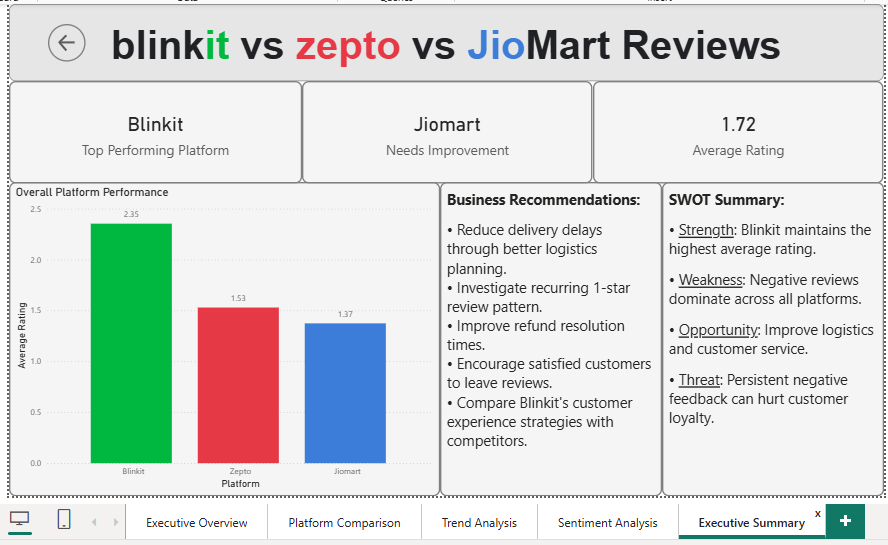

The page's visual inventory and layout, read from the dashboard file:
{"tool":"powerbi","page":{"name":"Executive Summary","canvas":[1280,720],"ordinal":4},"visuals":[{"type":"textbox","box":[0,0,1280,112.7],"z":0},{"type":"card","title":"Top Performing Platform","fields":{"Values":["Table of Measures.Top Performing Platform"]},"box":[0,112.6,429.1,150],"z":1000},{"type":"card","title":"Top Performing Platform","fields":{"Values":["Table of Measures.Needs Improvement"]},"box":[429.1,112.6,425.5,150.2],"z":2000},{"type":"card","title":"Top Performing Platform","fields":{"Values":["Table of Measures.Average Rating"]},"box":[854.5,112.6,425.5,150.2],"z":3000},{"type":"clusteredColumnChart","title":"Overall Platform Performance","fields":{"Category":["Platform.Platform"],"Y":["Table of Measures.Average Rating"]},"box":[0,260.5,630.7,459.5],"z":4000},{"type":"textbox","box":[630.7,260.5,324.9,459.5],"z":5000},{"type":"textbox","box":[955.6,260.5,324.9,459.5],"z":6000},{"type":"actionButton","box":[57.2,28.6,55.4,55.4],"z":7000}]}

Visuals, with their boxes on the page's 1280x720 design canvas (x1, y1, x2, y2). These are canvas units, not pixel positions in the 888x545 screenshot, which may show the page scaled, cropped or inside an application window:
textbox: {"x1": 0, "y1": 0, "x2": 1280, "y2": 113}
"Top Performing Platform" card: {"x1": 0, "y1": 113, "x2": 429, "y2": 263}
"Top Performing Platform" card: {"x1": 429, "y1": 113, "x2": 855, "y2": 263}
"Top Performing Platform" card: {"x1": 854, "y1": 113, "x2": 1280, "y2": 263}
"Overall Platform Performance" clusteredColumnChart: {"x1": 0, "y1": 260, "x2": 631, "y2": 720}
textbox: {"x1": 631, "y1": 260, "x2": 956, "y2": 720}
textbox: {"x1": 956, "y1": 260, "x2": 1280, "y2": 720}
actionButton: {"x1": 57, "y1": 29, "x2": 113, "y2": 84}
